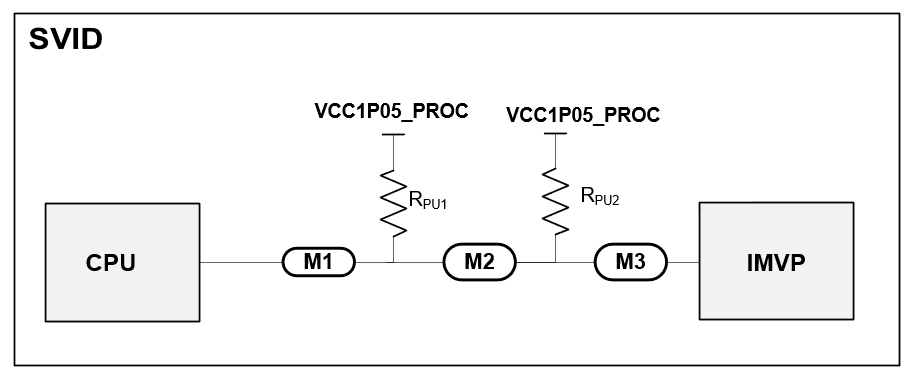oval: (441, 238, 518, 283), (281, 243, 362, 283), (595, 244, 670, 284)
power: (538, 125, 577, 163), (375, 127, 410, 163)
rectangle: (42, 200, 203, 323), (699, 200, 859, 323)
resistor: (375, 169, 412, 237), (539, 167, 570, 243)
